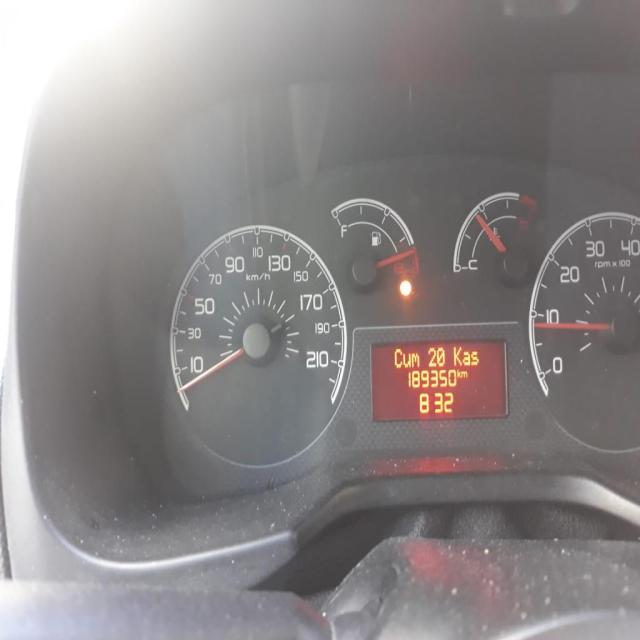odometer: (369, 337, 509, 421)
